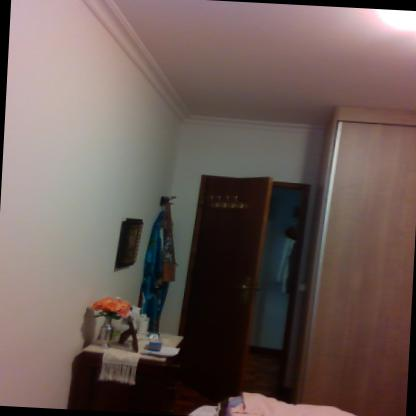semi: (185, 168, 301, 382)
